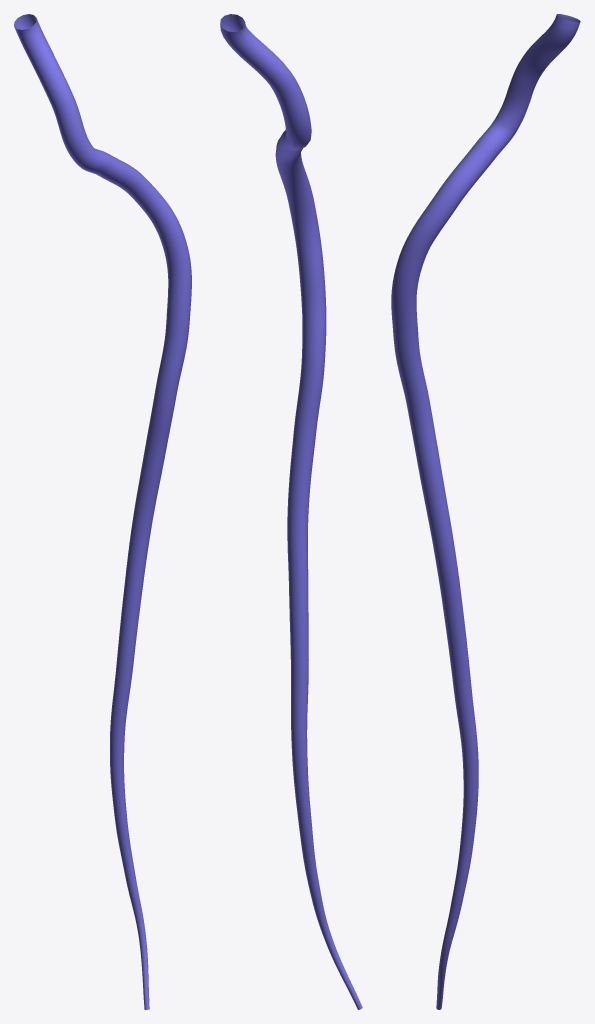
The model's file is Anterior_tibial_veins.l_BezierCurve.319.glb.
3 views of the same model, side by side, from view 1: azimuth 90°, elevation 25°; view 2: azimuth 150°, elevation 25°; view 3: azimuth 270°, elevation 25° (orthographic). The views are drawn at different scales.
Parts seen in each view (by area): view 1: Anterior_tibial_veins.l_BezierCurve.319; view 2: Anterior_tibial_veins.l_BezierCurve.319; view 3: Anterior_tibial_veins.l_BezierCurve.319.
Part boxes in pixels (left/top/right/bottom): Anterior_tibial_veins.l_BezierCurve.319: left=14, top=14, right=191, bottom=1009; Anterior_tibial_veins.l_BezierCurve.319: left=220, top=14, right=362, bottom=1009; Anterior_tibial_veins.l_BezierCurve.319: left=391, top=14, right=580, bottom=1009.
Size of the model in its own units: 0.0259 by 0.2911 by 0.0487.
